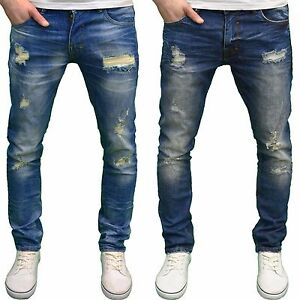jeans: (159, 10, 292, 251), (9, 13, 136, 252)
